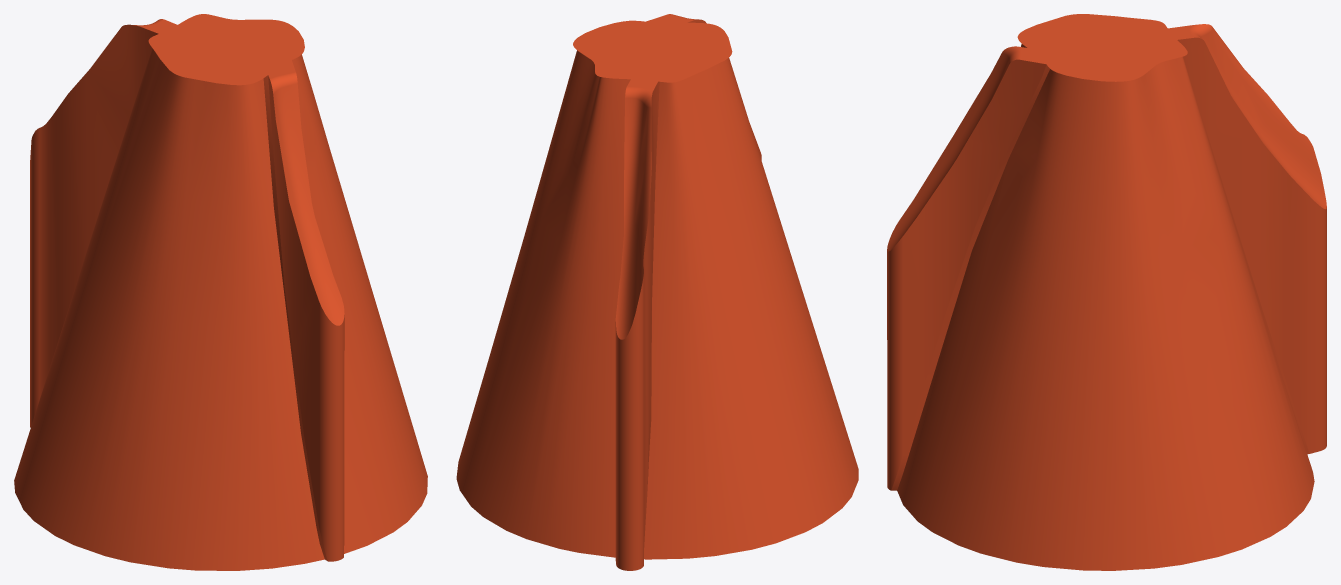
The model's file is lava.obj.
3 renders of one model, left to right at view 1: azimuth 30°, elevation 25°; view 2: azimuth 150°, elevation 25°; view 3: azimuth 270°, elevation 25°, orthographic. The views are drawn at different scales.
Parts seen in each view (by area): view 1: mesh7, mesh12, mesh4, mesh16, mesh19, mesh17, mesh20, mesh1, mesh9; view 2: mesh7, mesh12, mesh16, mesh1, mesh0, mesh4; view 3: mesh12, mesh3, mesh18, mesh16, mesh0, mesh17, mesh20, mesh15, mesh1, mesh14.
Boxes of the visible parts, x1,y1,x2,y2 form: mesh7: (14,48,324,570); mesh12: (292,54,427,553); mesh4: (39,24,158,398); mesh16: (140,14,304,85); mesh19: (268,76,318,525); mesh17: (319,301,344,561); mesh20: (273,83,344,325); mesh1: (30,128,39,427); mesh9: (263,75,318,527); mesh7: (644,58,858,559); mesh12: (456,50,630,557); mesh16: (573,14,732,91); mesh1: (616,274,643,570); mesh0: (615,98,651,339); mesh4: (643,82,657,547); mesh12: (897,56,1314,570); mesh3: (1177,37,1321,453); mesh18: (903,59,1046,453); mesh16: (1017,14,1194,81); mesh0: (1200,28,1326,209); mesh17: (887,236,903,490); mesh20: (887,52,1009,251); mesh15: (903,64,1049,455); mesh1: (1321,207,1326,450); mesh14: (1194,94,1309,454).
Bounding box in the file's own units: 0.0185 × 0.0214 × 0.0195.
